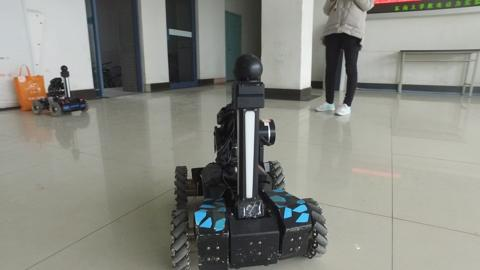bag: (13, 60, 48, 113)
chariot: (167, 53, 328, 270), (32, 64, 91, 119)
